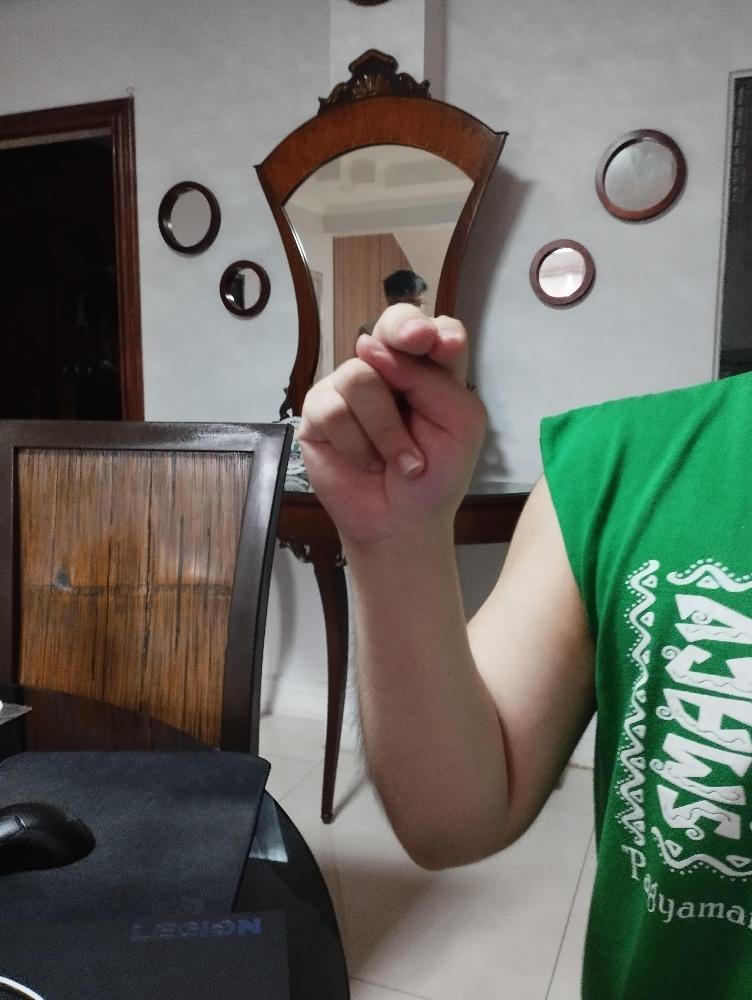n: (292, 299, 493, 551)
